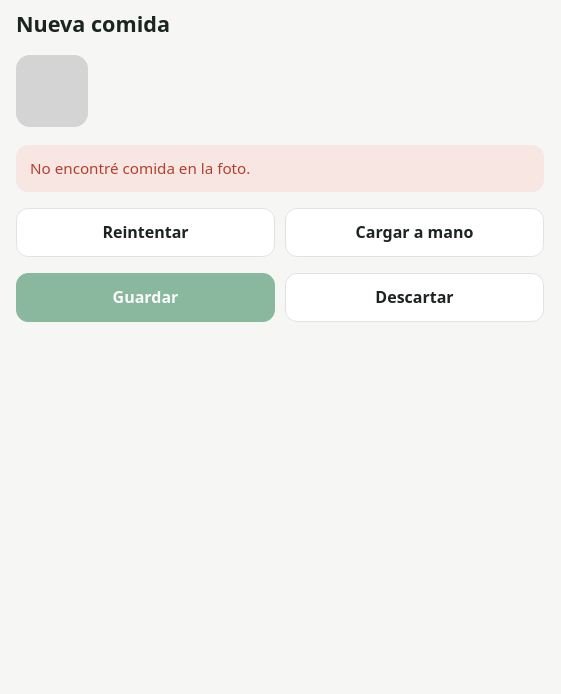
Scenario: si la foto no tiene comida ofrece reintentar o cargar a mano
Expected: the text "No encontré comida en la foto." is shown, 16,146 -> 544,192
Expected: the button "Cargar a mano" is shown, 285,208 -> 544,257
Click the button "Reintentar" at (146, 232), box 16,208 -> 275,257
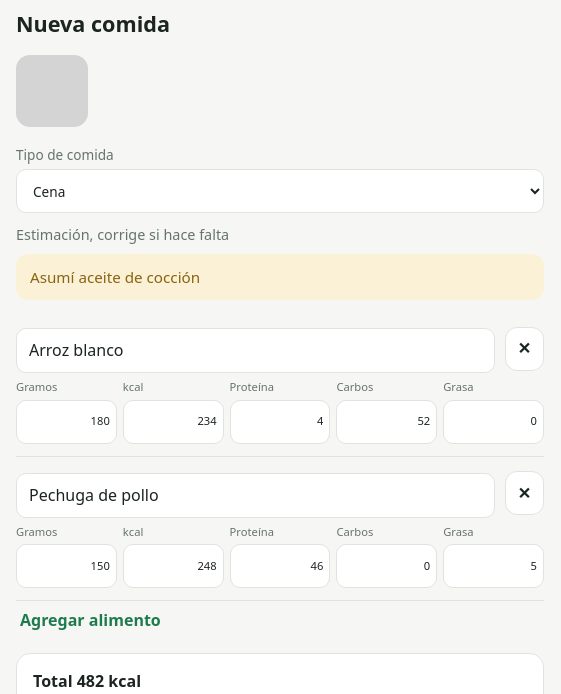
Now the 1st field showing "Arroz blanco" is shown, box 16,328 -> 495,373
